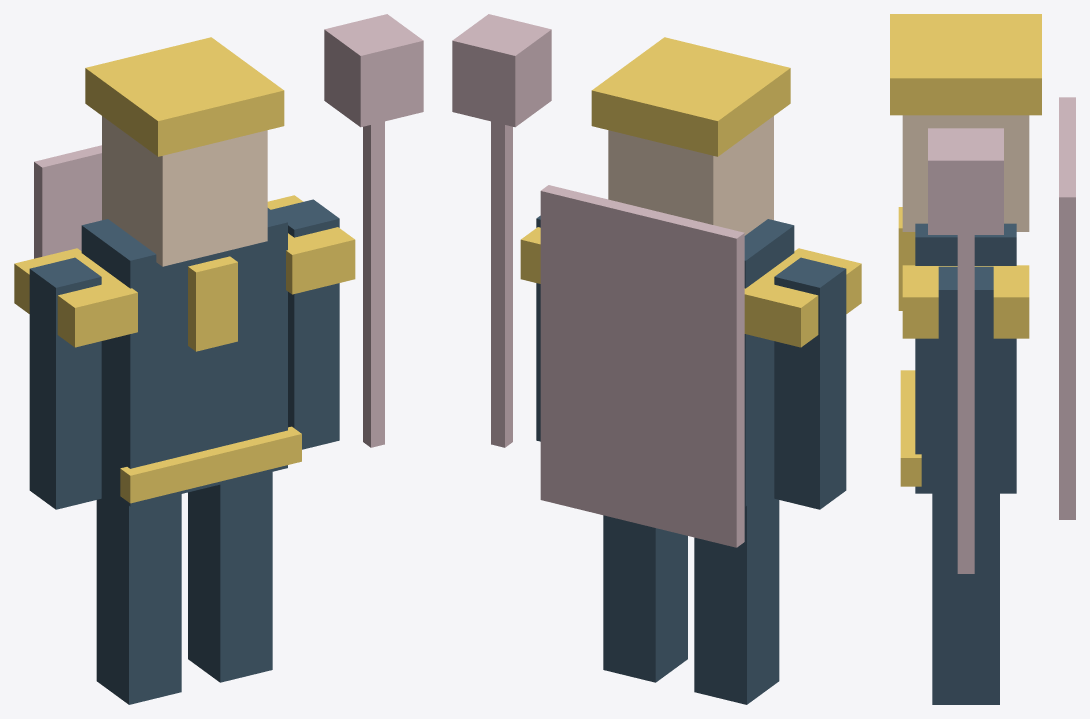
The model's file is 11_tamsin_deepwell_fixer_under_tactical.glb.
The picture shows the model from 3 angles, left to right: view 1: azimuth 30°, elevation 25°; view 2: azimuth 150°, elevation 25°; view 3: azimuth 270°, elevation 25°; orthographic projection. The views are drawn at different scales.
Parts seen in each view (by area): view 1: Tamsin Deepwell, Fixer under Tactical; view 2: Tamsin Deepwell, Fixer under Tactical; view 3: Tamsin Deepwell, Fixer under Tactical.
Boxes of the visible parts, x1=… form: Tamsin Deepwell, Fixer under Tactical: x1=14, y1=14, x2=423, y2=704; Tamsin Deepwell, Fixer under Tactical: x1=452, y1=14, x2=861, y2=704; Tamsin Deepwell, Fixer under Tactical: x1=890, y1=14, x2=1075, y2=704.
Size of the model in its own units: 1.07 by 1.68 by 0.4543.
